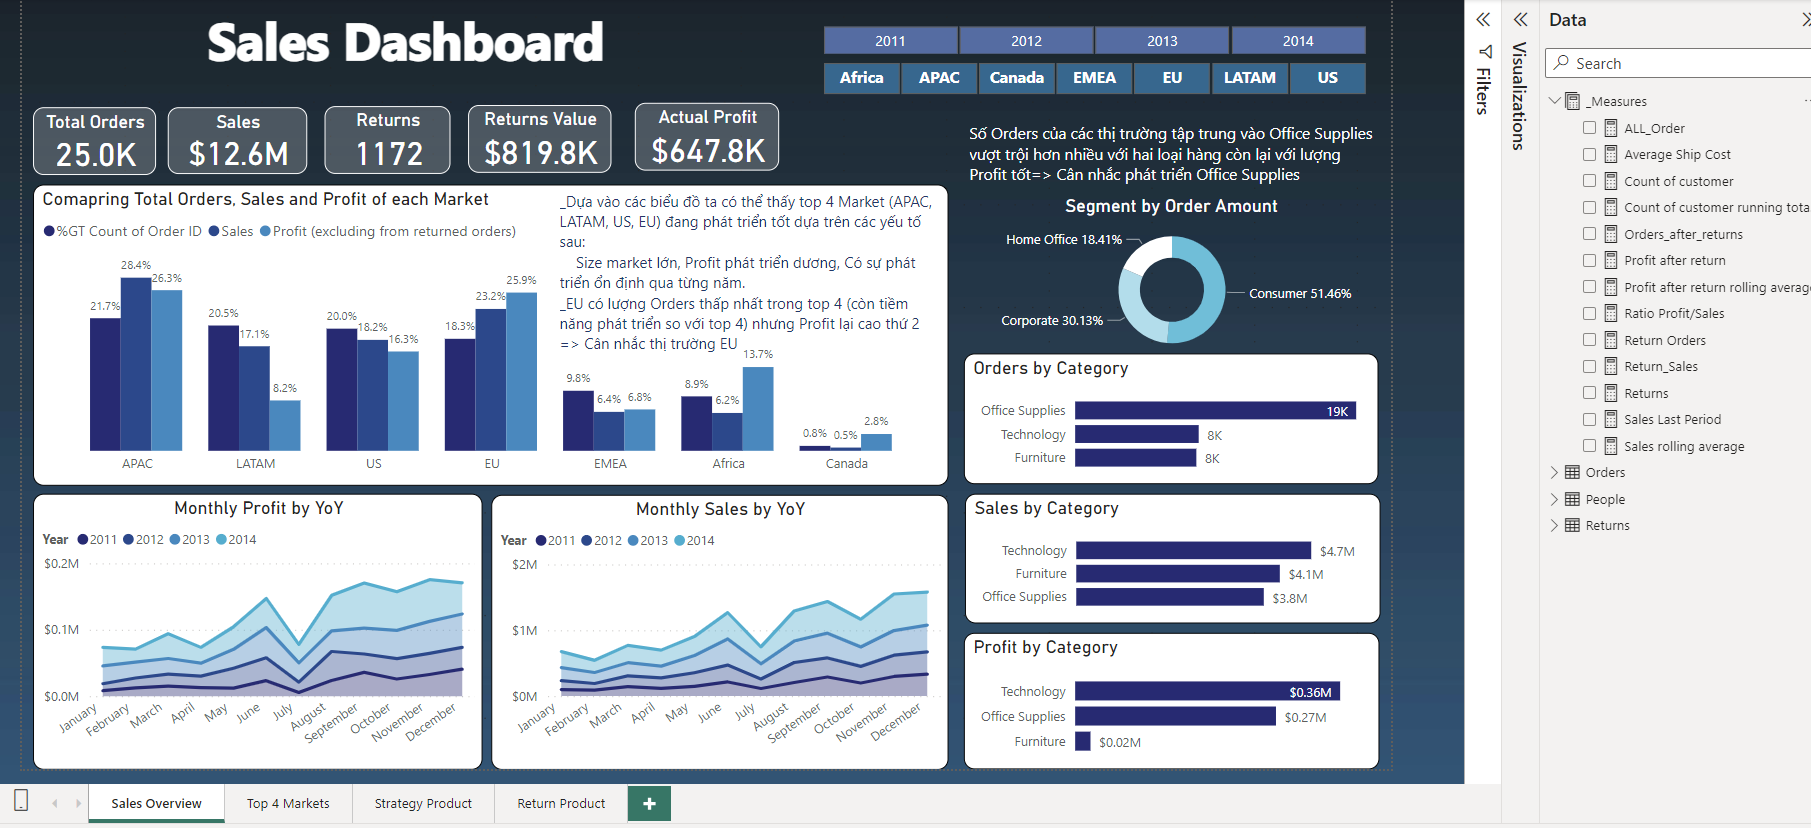

This screenshot's page, from the dashboard's own definition file:
{"tool":"powerbi","page":{"name":"Sales Overview","canvas":[1280,720],"ordinal":0},"visuals":[{"type":"card","title":"Total Orders","fields":{"Values":["Count(Orders.Order ID)"]},"box":[10,101.2,115,63.8],"z":0},{"type":"card","title":"Returns","fields":{"Values":["Count(Returns.Order ID)"]},"box":[282.5,100,117.5,63.8],"z":1000},{"type":"card","title":"Actual Profit","fields":{"Values":["_Measures.Profit after return"]},"box":[572.5,97.5,135,63.8],"z":2000},{"type":"textbox","box":[10,0,697.5,75],"z":3000},{"type":"card","title":"Sales","fields":{"Values":["Sum(Orders.Sales)"]},"box":[136.2,101.2,130,62.5],"z":4000},{"type":"stackedAreaChart","title":"Monthly Sales by YoY","fields":{"Y":["Sum(Orders.Sales)"],"Category":["Orders.Order Date.Variation.Date Hierarchy.Month","Orders.Order Date.Variation.Date Hierarchy.Day"],"Series":["Orders.Order Date.Variation.Date Hierarchy.Year"]},"box":[439.2,463.4,427,257.1],"z":5000},{"type":"stackedAreaChart","title":"Monthly Profit by YoY","fields":{"Category":["Orders.Order Date.Variation.Date Hierarchy.Month","Orders.Order Date.Variation.Date Hierarchy.Day"],"Series":["Orders.Order Date.Variation.Date Hierarchy.Year"],"Y":["Sum(Orders.Profit)"]},"box":[9.9,462.3,420.4,258.2],"z":6000},{"type":"clusteredColumnChart","title":"Comapring Total Orders, Sales and Profit of each Market","fields":{"Category":["Orders.Market"],"Y":["CountNonNull(Orders.Order ID)","Divide(Sum(Orders.Sales), ScopedEval(Sum(Orders.Sales), []))","_Measures.Profit after return"]},"box":[10,173.8,856.2,281.2],"z":7000},{"type":"textbox","box":[497.5,173.8,368.8,186.2],"z":8000},{"type":"slicer","fields":{"Values":["Orders.Order Date.Variation.Date Hierarchy.Year"]},"box":[723.7,18.8,556.2,32.5],"z":9000},{"type":"textbox","box":[880,110,390,73.8],"z":10000},{"type":"slicer","fields":{"Values":["Orders.Market"]},"box":[723.7,52.5,556.2,42.5],"z":11000},{"type":"barChart","title":"Sales by Category","fields":{"Category":["Orders.Category"],"Y":["Sum(Orders.Sales)"]},"box":[881.2,462.5,388.8,121.2],"z":12000},{"type":"barChart","title":"Profit by Category","fields":{"Category":["Orders.Category"],"Y":["_Measures.Profit after return"]},"box":[880,592.5,388.8,127.5],"z":13000},{"type":"barChart","title":"Orders by Category","fields":{"Category":["Orders.Category"],"Y":["Count(Orders.Order ID)"]},"box":[880,331.2,387.5,122.5],"z":14000},{"type":"card","title":"Returns Value","fields":{"Values":["_Measures.Return_Profit"]},"box":[417.5,98.8,133.8,63.8],"z":15000},{"type":"donutChart","title":"Segment by Order Amount","fields":{"Category":["Orders.Segment"],"Y":["_Measures.ALL_Order"]},"box":[881.2,183.8,386.2,156.2],"z":16000}]}

Visuals, with their boxes on the page's 1280x720 design canvas (x1, y1, x2, y2). These are canvas units, not pixel positions in the 1811x828 screenshot, which may show the page scaled, cropped or inside an application window:
"Total Orders" card: (10, 101, 125, 165)
"Returns" card: (282, 100, 400, 164)
"Actual Profit" card: (572, 98, 708, 161)
textbox: (10, 0, 708, 75)
"Sales" card: (136, 101, 266, 164)
"Monthly Sales by YoY" stackedAreaChart: (439, 463, 866, 720)
"Monthly Profit by YoY" stackedAreaChart: (10, 462, 430, 720)
"Comapring Total Orders, Sales and Profit of each Market" clusteredColumnChart: (10, 174, 866, 455)
textbox: (498, 174, 866, 360)
slicer - Orders.Order Date.Variation.Date Hierarchy.Year: (724, 19, 1280, 51)
textbox: (880, 110, 1270, 184)
slicer - Orders.Market: (724, 52, 1280, 95)
"Sales by Category" barChart: (881, 462, 1270, 584)
"Profit by Category" barChart: (880, 592, 1269, 720)
"Orders by Category" barChart: (880, 331, 1268, 454)
"Returns Value" card: (418, 99, 551, 163)
"Segment by Order Amount" donutChart: (881, 184, 1267, 340)
